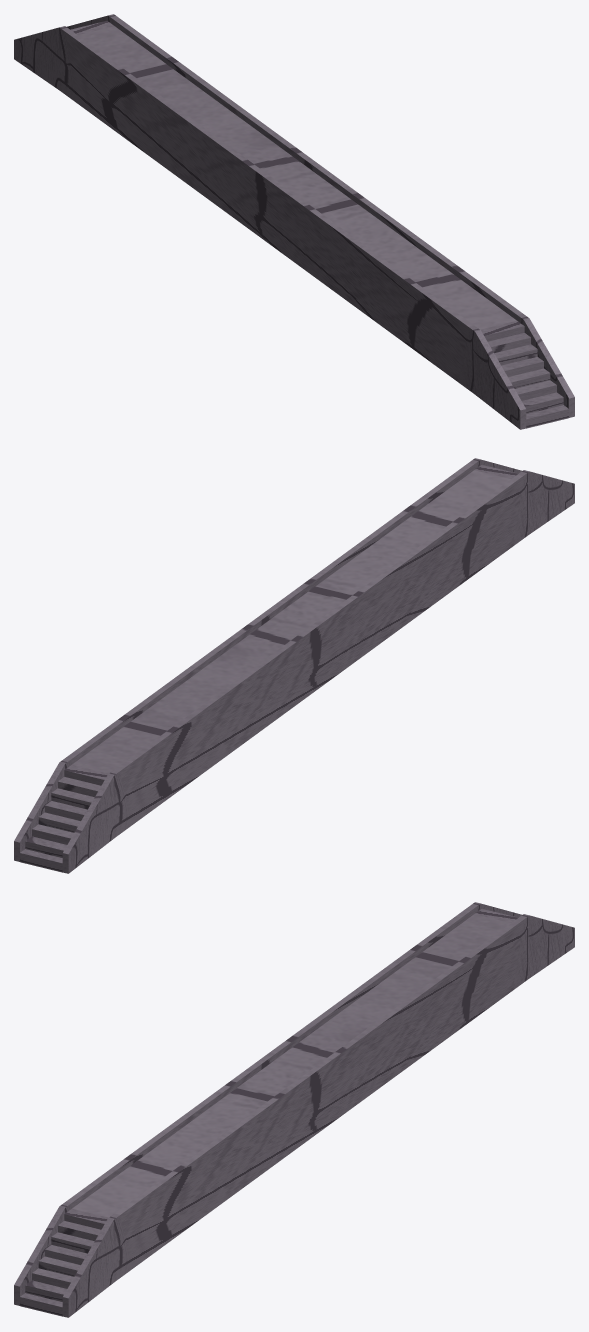
Rendered from Stone_Bridge.obj.
The picture shows the model from 3 angles, top to bottom: view 1: azimuth 30°, elevation 25°; view 2: azimuth 150°, elevation 25°; view 3: azimuth 330°, elevation 25°; orthographic projection.
Visible parts, largest first — view 1: group1_pasted__Stair_pasted__StairGuard; view 2: group1_pasted__Stair_pasted__StairGuard; view 3: group1_pasted__Stair_pasted__StairGuard.
Boxes of the visible parts, x1=… form: group1_pasted__Stair_pasted__StairGuard: x1=14, y1=14, x2=574, y2=429; group1_pasted__Stair_pasted__StairGuard: x1=14, y1=458, x2=574, y2=873; group1_pasted__Stair_pasted__StairGuard: x1=14, y1=902, x2=574, y2=1317.
Size of the model in its own units: 2.2 by 2.52 by 35.43.
Materials: 1 (1 with a texture image).
